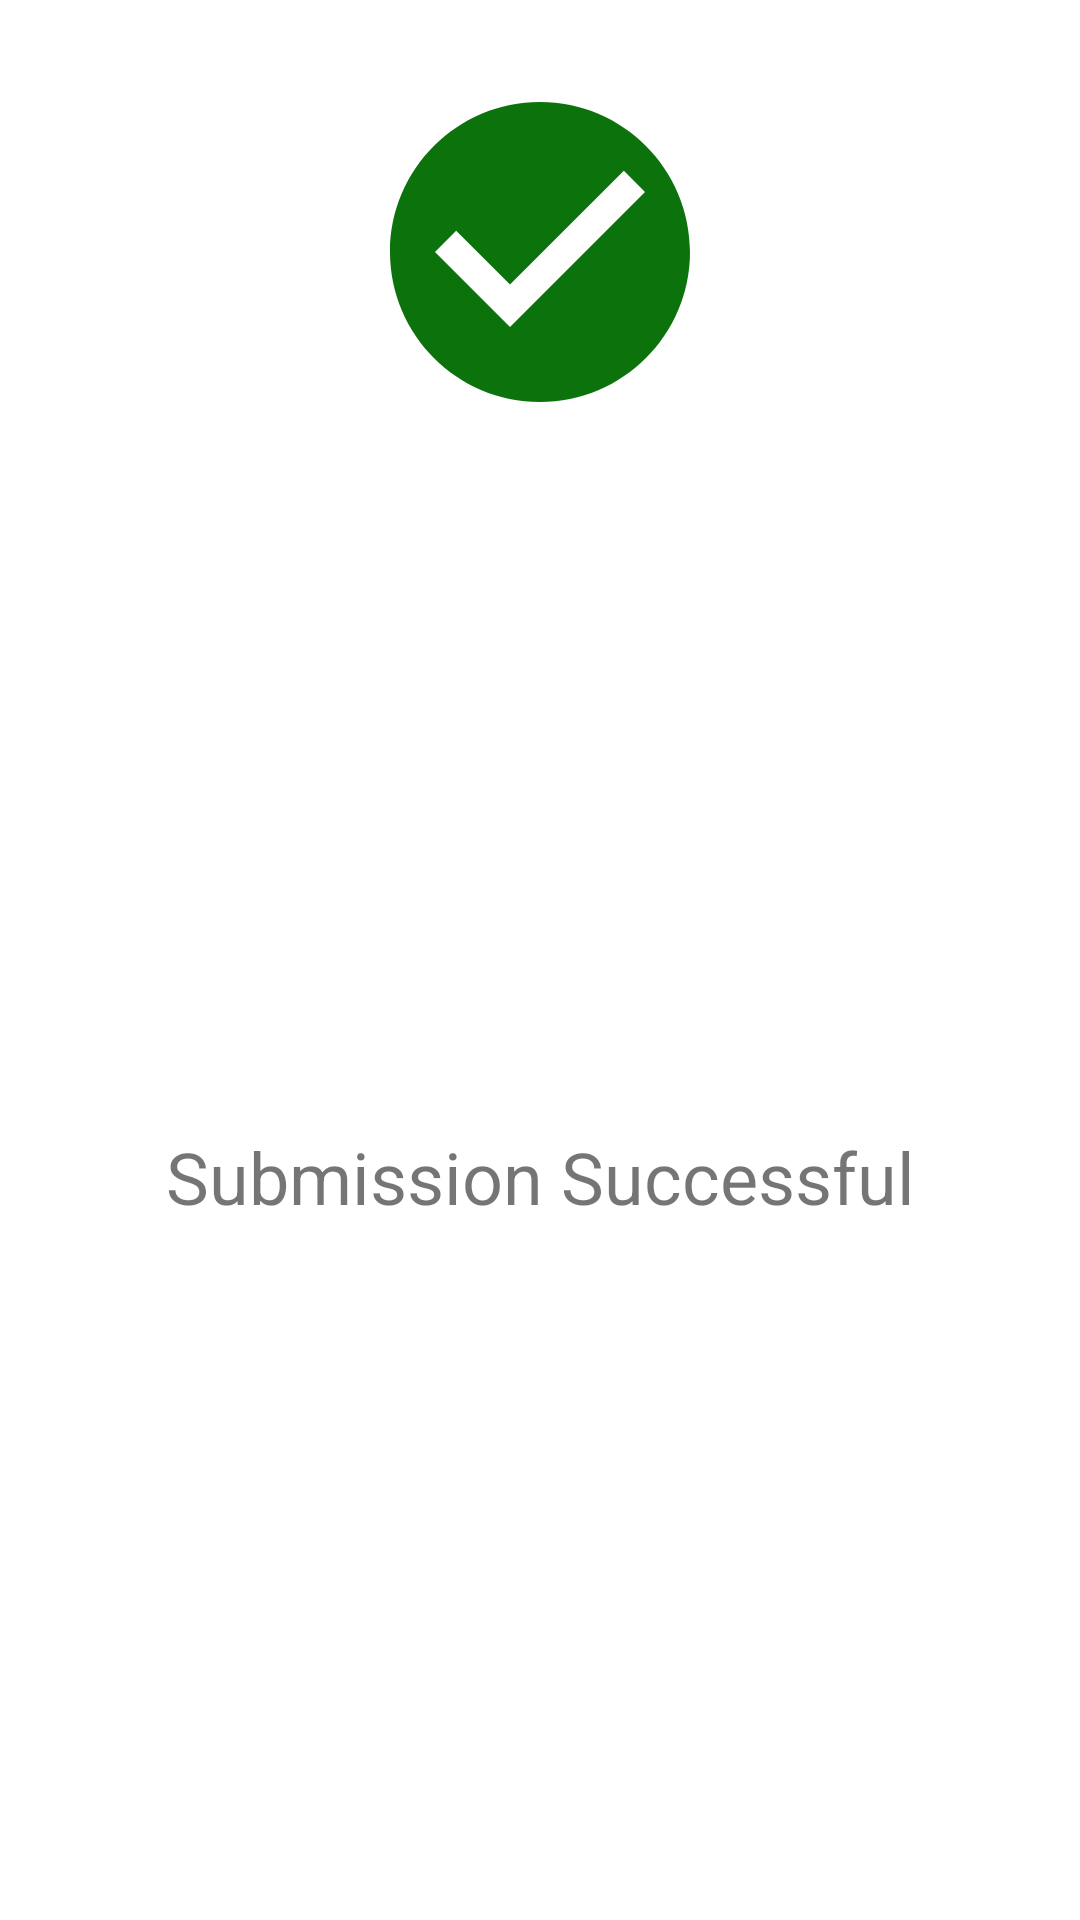

Where to tap for icons on this 1080x1920 app screen, as [x,y]:
check circle: [540,252]
